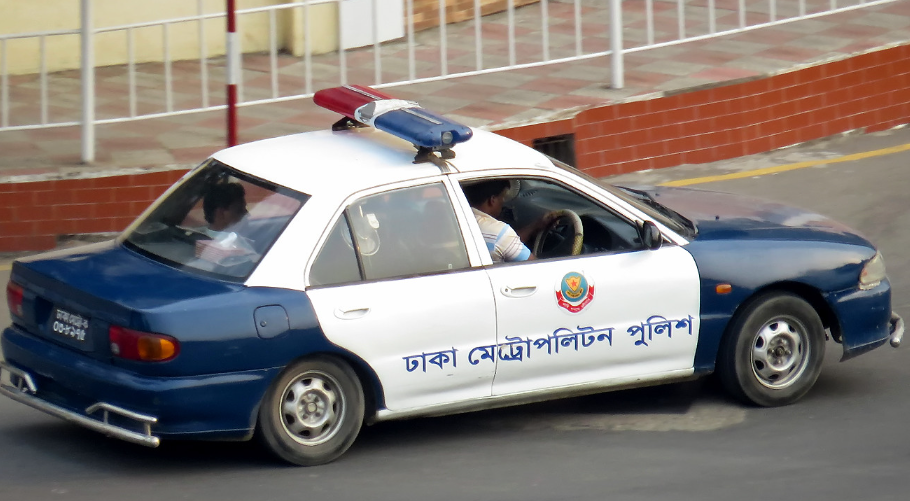Police cars: (10, 54, 910, 469)
